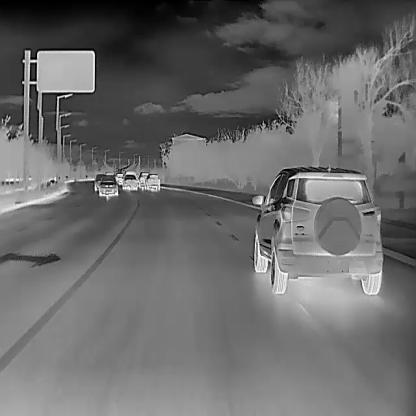car: (251, 164, 382, 294), (99, 174, 118, 195), (143, 173, 159, 190), (122, 173, 138, 189), (94, 173, 105, 190), (137, 171, 148, 186), (114, 172, 122, 186)
